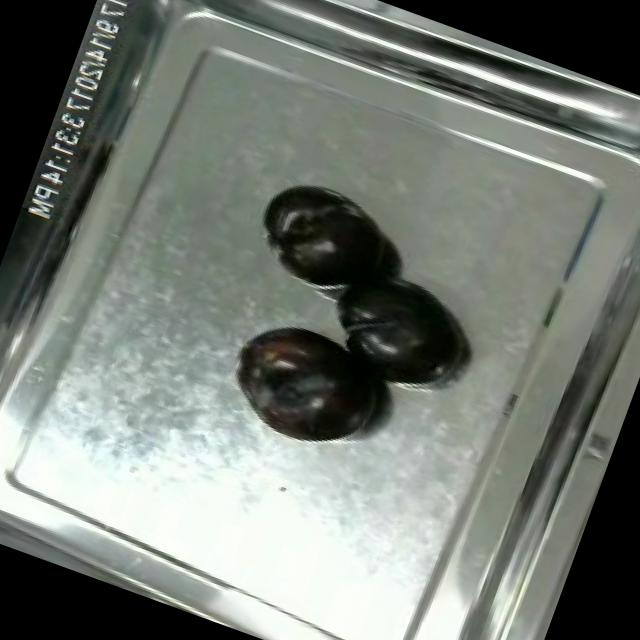Fruit: (212, 306, 400, 468), (242, 170, 409, 308), (326, 259, 478, 402)
